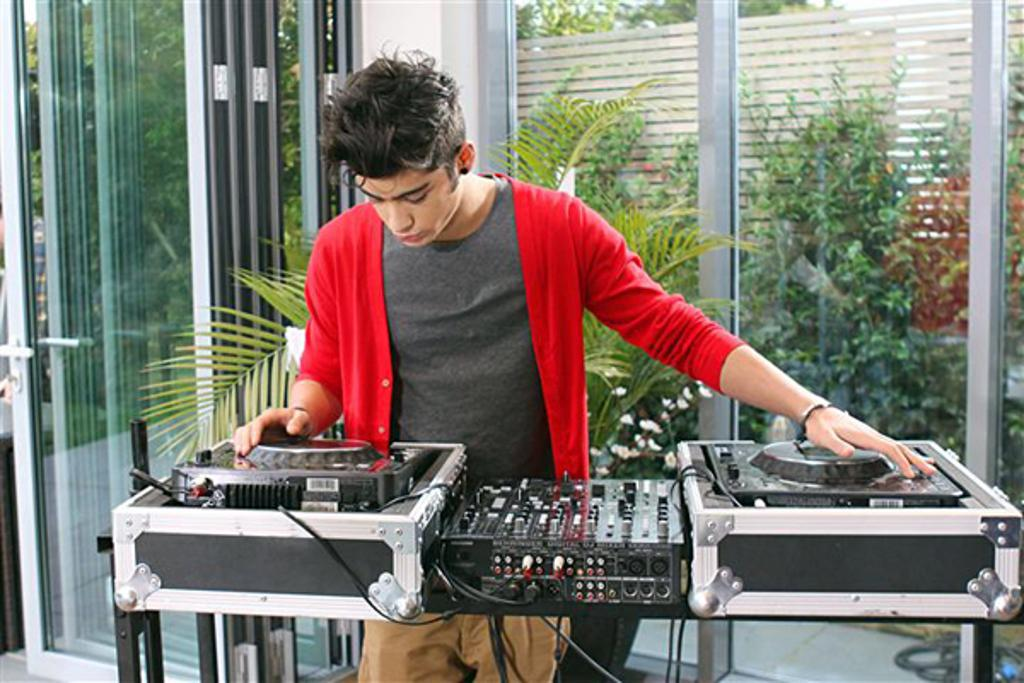face: (359, 177, 469, 245)
